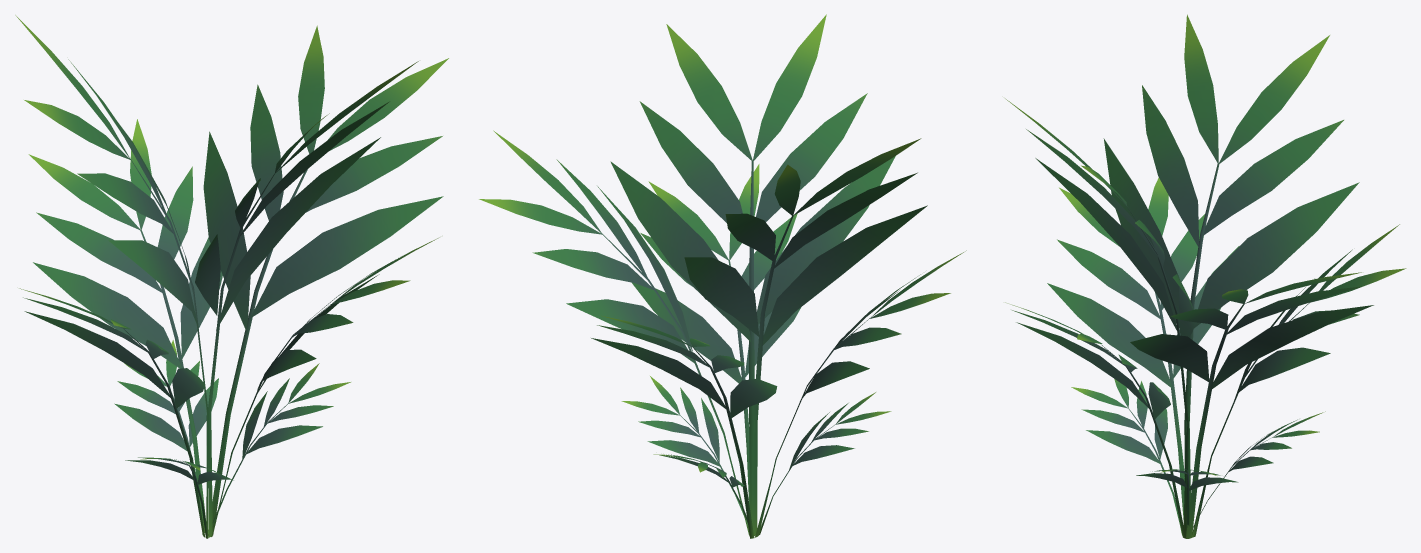
File: plant_05.fbx
3 views of the same model, side by side, from view 1: azimuth 30°, elevation 25°; view 2: azimuth 150°, elevation 25°; view 3: azimuth 270°, elevation 25° (orthographic). The views are drawn at different scales.
Visible parts, largest first — view 1: plant_05; view 2: plant_05; view 3: plant_05.
Part boxes in pixels (bbox=[...]): plant_05: bbox=[15, 15, 448, 538]; plant_05: bbox=[479, 14, 966, 538]; plant_05: bbox=[1005, 14, 1406, 538].
Size of the model in its own units: 5.31 by 5.33 by 4.4.
